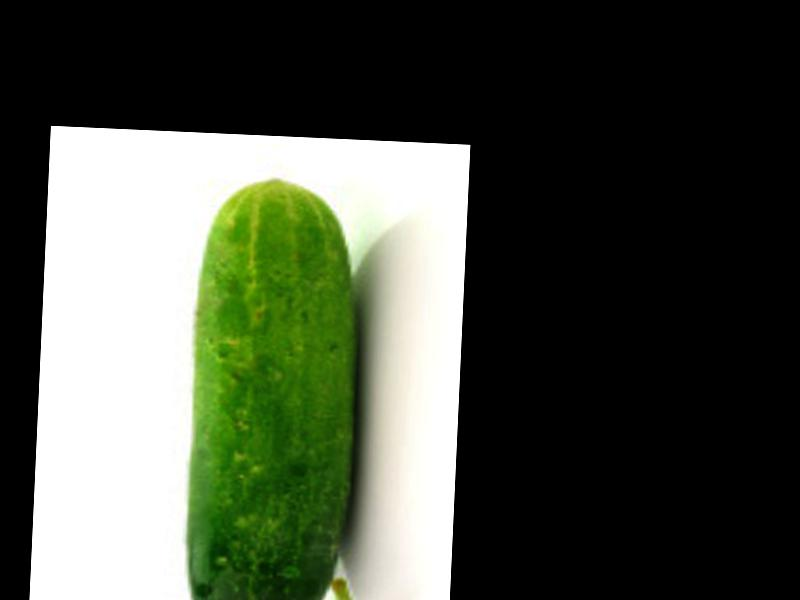Cucumber: (181, 171, 371, 600)
